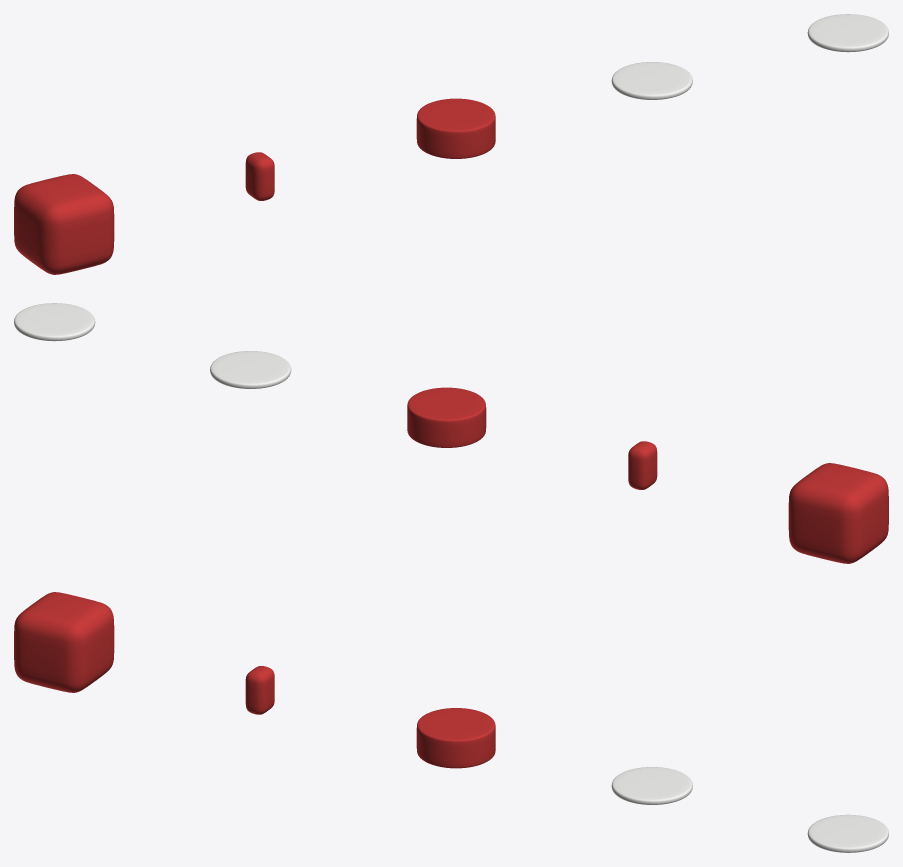
The model's file is GloveParts.fbx.
The picture shows the model from 3 angles, top to bottom: view 1: azimuth 30°, elevation 25°; view 2: azimuth 150°, elevation 25°; view 3: azimuth 330°, elevation 25°; orthographic projection.
Visible parts, largest first — view 1: Glove, Base, Band_Down, Band_Upper, Thumb; view 2: Glove, Base, Band_Down, Band_Upper, Thumb; view 3: Glove, Base, Band_Down, Band_Upper, Thumb.
Part boxes in pixels (x1,y1,x2,y2): Glove: [14, 174, 114, 274]; Base: [416, 98, 495, 158]; Band_Down: [807, 14, 888, 52]; Band_Upper: [611, 62, 692, 99]; Thumb: [245, 152, 274, 200]; Glove: [788, 463, 888, 563]; Base: [407, 387, 486, 447]; Band_Down: [14, 303, 95, 341]; Band_Upper: [210, 351, 291, 388]; Thumb: [628, 441, 657, 489]; Glove: [14, 592, 114, 692]; Base: [416, 708, 495, 768]; Band_Down: [807, 814, 888, 852]; Band_Upper: [611, 767, 692, 804]; Thumb: [245, 666, 274, 714].
Bounding box in the file's own units: 1310 × 106 × 112.
